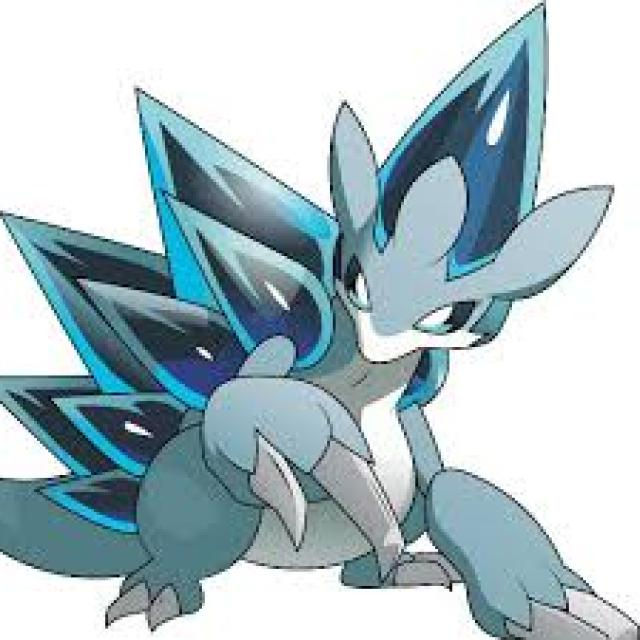Alolan: (65, 12, 609, 613)
